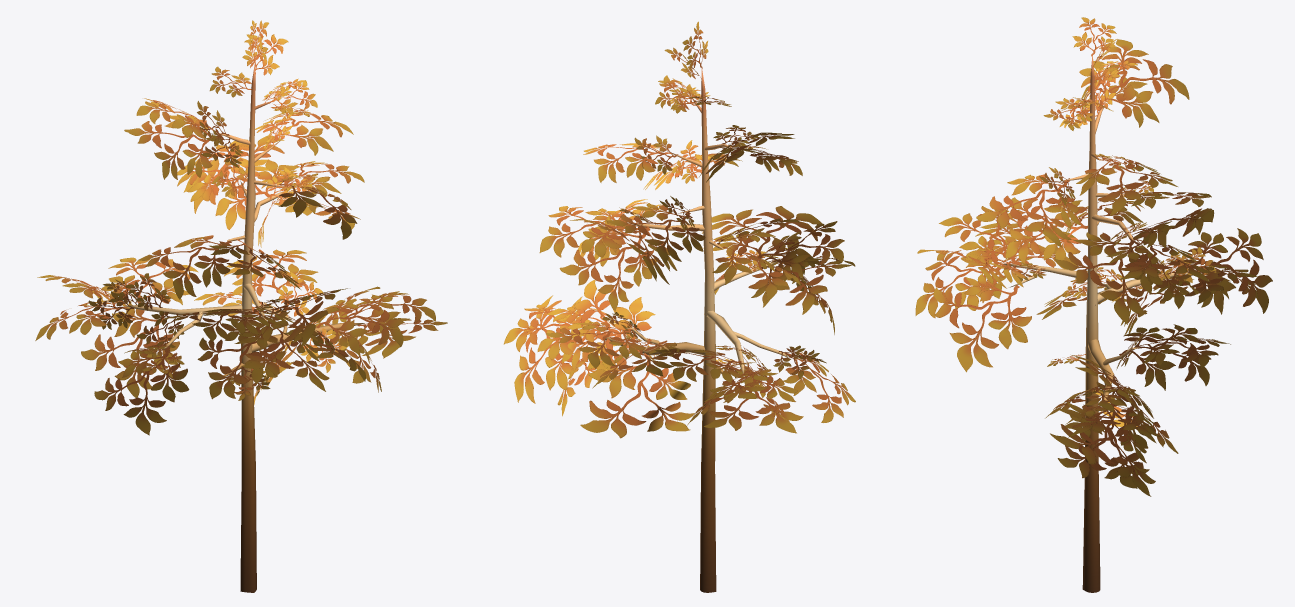
The model's file is Tree_7.fbx.
3 renders of one model, left to right at view 1: azimuth 30°, elevation 25°; view 2: azimuth 150°, elevation 25°; view 3: azimuth 270°, elevation 25°, orthographic. The views are drawn at different scales.
Visible parts, largest first — view 1: Foliage, Trunk7; view 2: Foliage, Trunk7; view 3: Foliage, Trunk7.
Part boxes in pixels (x1,y1,x2,y2): Foliage: (35, 20, 447, 435); Trunk7: (122, 63, 364, 592); Foliage: (503, 21, 855, 438); Trunk7: (595, 67, 788, 592); Foliage: (915, 17, 1272, 496); Trunk7: (1003, 54, 1178, 592).
Bounding box in the file's own units: 474 × 712 × 421.
